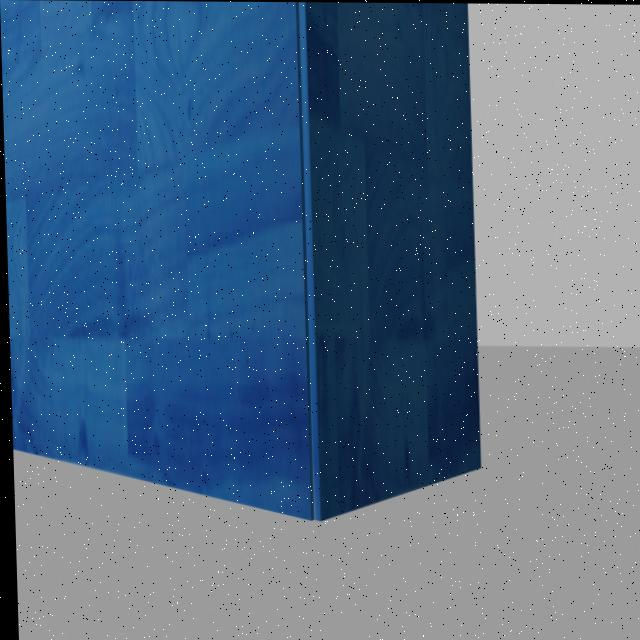shelf: (0, 0, 503, 544)
